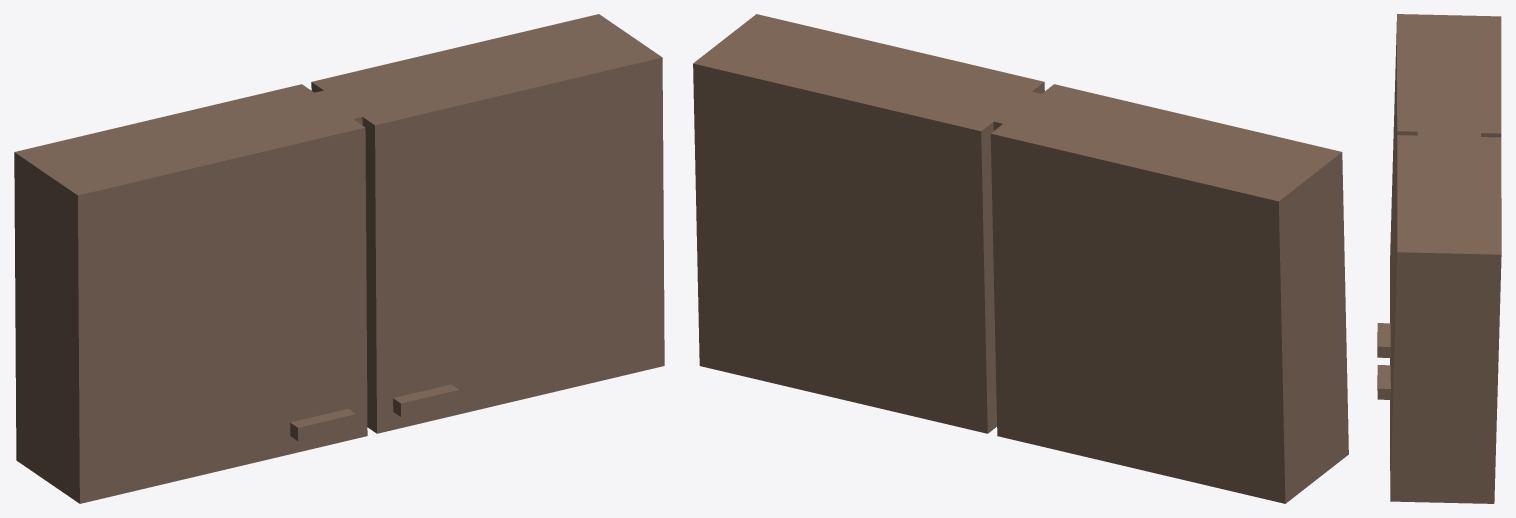
The model's file is Cupboard.fbx.
The picture shows the model from 3 angles, left to right: view 1: azimuth 30°, elevation 25°; view 2: azimuth 150°, elevation 25°; view 3: azimuth 270°, elevation 25°; orthographic projection. The views are drawn at different scales.
Parts seen in each view (by area): view 1: Cupboard; view 2: Cupboard; view 3: Cupboard.
Part boxes in pixels (x1,y1,x2,y2): Cupboard: (14,14,664,503); Cupboard: (693,14,1348,503); Cupboard: (1377,14,1501,503).
Size of the model in its own units: 101 by 51.53 by 22.59.
